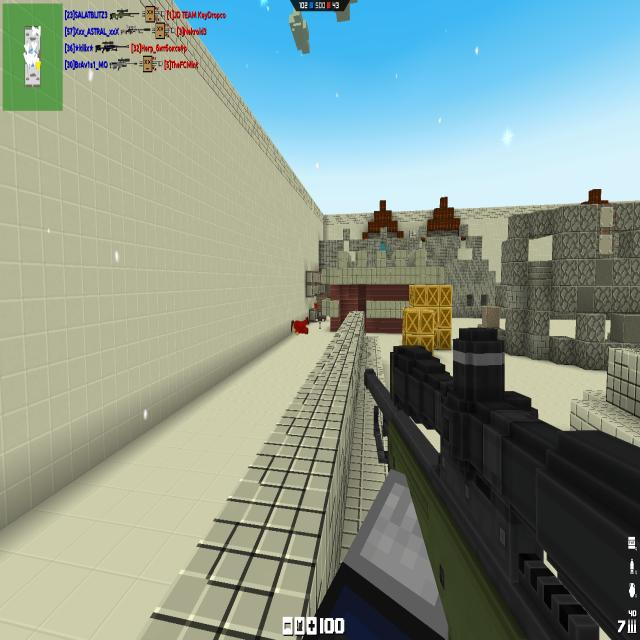player: (291, 316, 309, 335), (314, 300, 318, 310)
